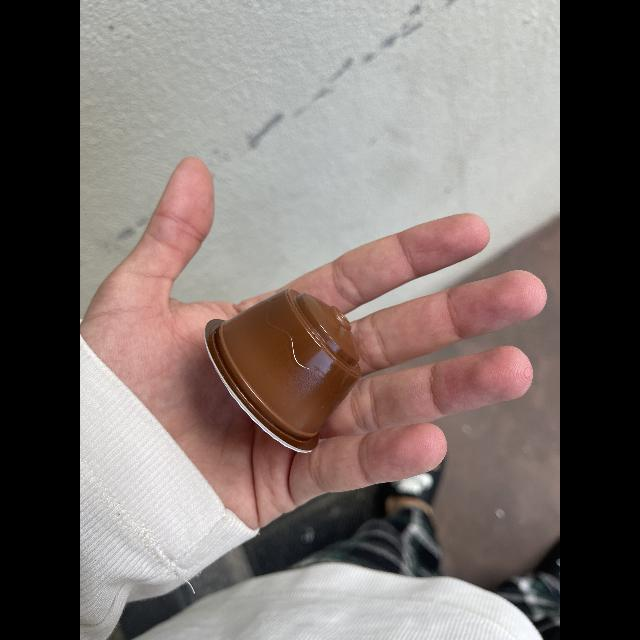intact_capsule: (192, 281, 374, 465)
